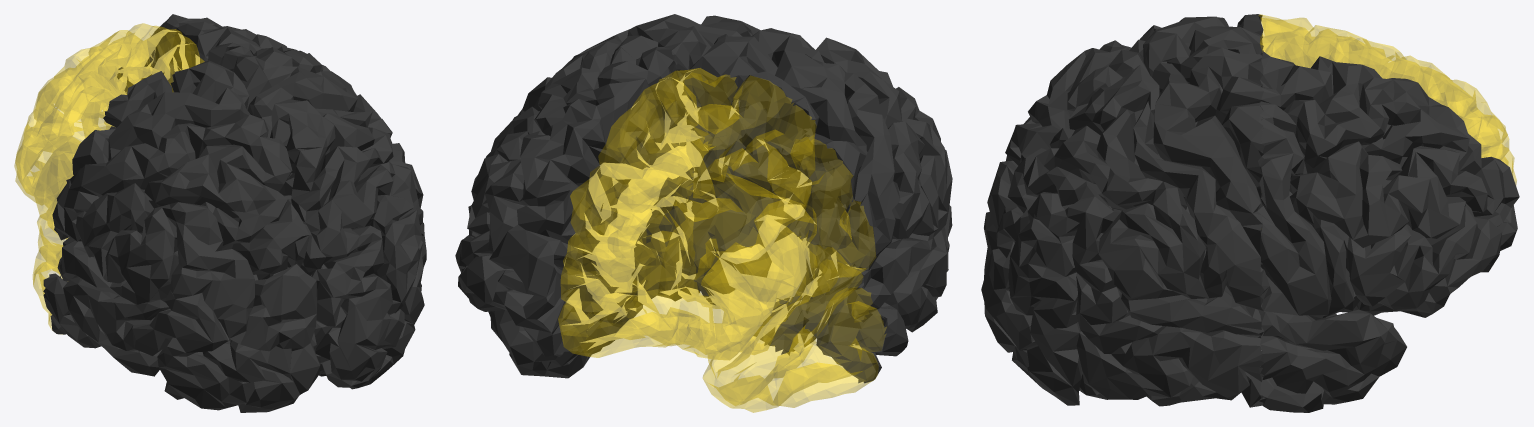
File: 4sepbrain.glb
3 views of the same model, side by side, from view 1: azimuth 30°, elevation 25°; view 2: azimuth 150°, elevation 25°; view 3: azimuth 270°, elevation 25° (orthographic). The views are drawn at different scales.
Parts seen in each view (by area): view 1: left back, right back, left front, right front; view 2: left front, left back, right front, right back; view 3: right back, right front, left back, left front.
Boxes of the visible parts, left/top/right/bottom form: left back: left=43, top=60, right=320, bottom=412; right back: left=222, top=46, right=426, bottom=389; left front: left=14, top=23, right=204, bottom=334; right front: left=117, top=14, right=330, bottom=94; left front: left=558, top=68, right=886, bottom=412; left back: left=683, top=28, right=952, bottom=383; right front: left=455, top=46, right=693, bottom=378; right back: left=563, top=14, right=760, bottom=298; right back: left=981, top=48, right=1264, bottom=407; right front: left=1257, top=51, right=1519, bottom=412; left back: left=984, top=14, right=1263, bottom=278; left front: left=1259, top=14, right=1516, bottom=184.
Bounding box in the file's own units: 138 × 111 × 169.
